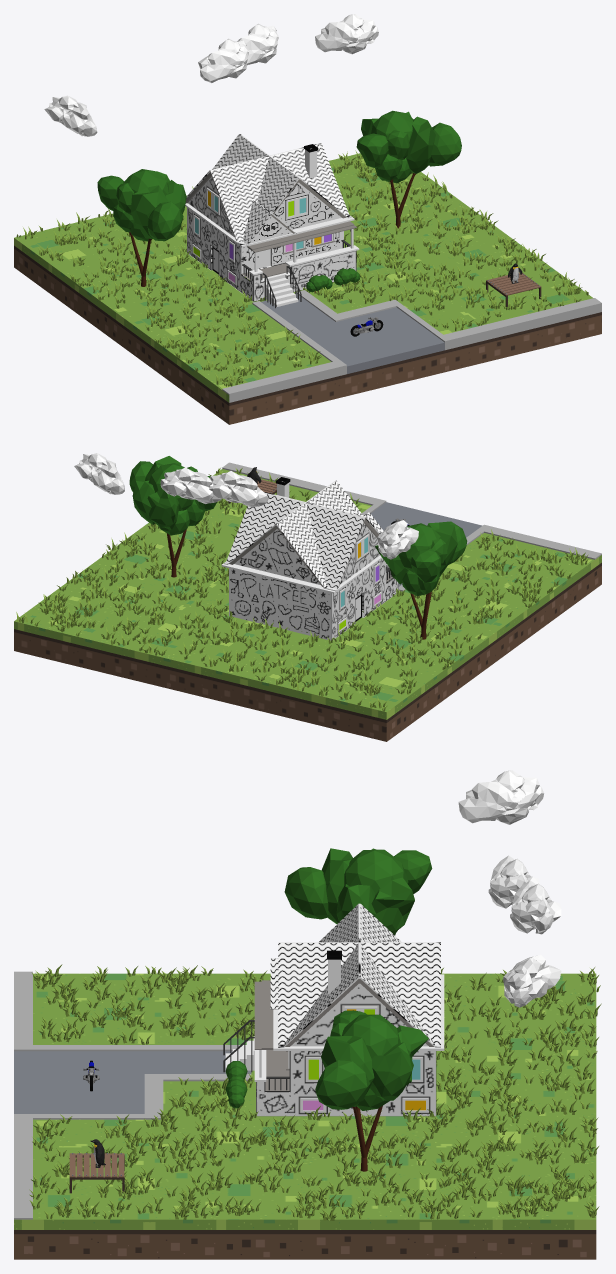
3 views of the same model, one above another, from view 1: azimuth 30°, elevation 25°; view 2: azimuth 150°, elevation 25°; view 3: azimuth 270°, elevation 25° (orthographic). The views are drawn at different scales.
Parts seen in each view (by area): view 1: Cube.006, Cube.879, Circle.012_Grass_0.192, Cube.007, tree, tree.001, Cube.009; view 2: Cube.006, Cube.879, Circle.012_Grass_0.192, Cube.007, tree.001, tree; view 3: Cube.006, Circle.012_Grass_0.192, Cube.879, tree, Cube.007, tree.001, Cube.009.
Part boxes in pixels (x1,y1,x2,y2): Cube.006: (14,153,601,424); Cube.879: (185,134,359,308); Circle.012_Grass_0.192: (16,150,588,386); Cube.007: (44,14,378,136); tree: (356,110,461,228); tree.001: (97,169,186,286); Cube.009: (486,272,541,306); Cube.006: (14,462,601,741); Cube.879: (221,477,398,640); Circle.012_Grass_0.192: (16,468,588,711); Cube.007: (74,453,418,559); tree.001: (375,521,467,639); tree: (129,456,216,577); Cube.006: (14,971,596,1259); Circle.012_Grass_0.192: (29,964,601,1220); Cube.879: (223,903,444,1116); tree: (315,1010,428,1171); Cube.007: (458,770,561,1007); tree.001: (284,848,432,935); Cube.009: (69,1153,124,1193).
Size of the model in its own units: 4071 by 2126 by 4040.
31 materials, 11 textured.
